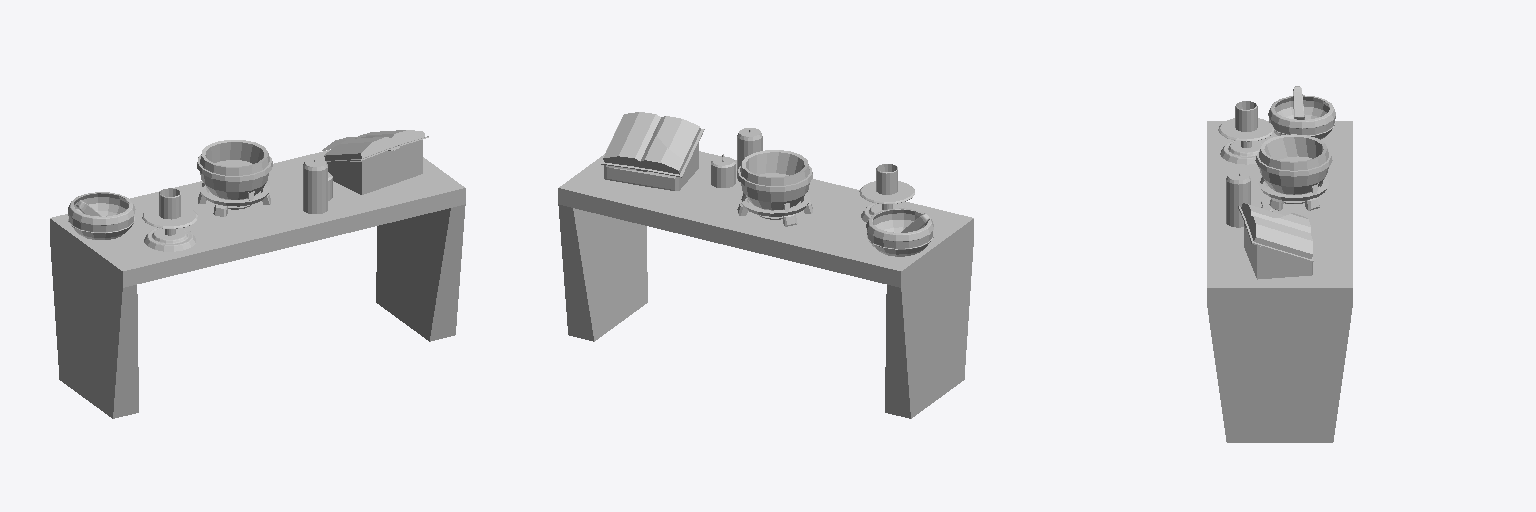
File: booktable.obj
The picture shows the model from 3 angles: view 1: azimuth 30°, elevation 25°; view 2: azimuth 150°, elevation 25°; view 3: azimuth 270°, elevation 25°; orthographic projection.
Visible parts, largest first — view 1: Cube.003, Sphere, Cube.004, objs.006, objs.007, Cube.006, Cylinder.001; view 2: Cube.003, Cube.006, Sphere, objs.006, objs.007, Cube.004, Cylinder, Cylinder.001; view 3: Cube.003, Sphere, Cube.006, objs.006, objs.007, Cube.004, Cylinder.001.
Part boxes in pixels (left/top/right/bottom): Cube.003: left=50, top=150, right=465, bottom=418; Sphere: left=197, top=140, right=272, bottom=216; Cube.004: left=327, top=140, right=422, bottom=194; objs.006: left=68, top=192, right=135, bottom=239; objs.007: left=142, top=188, right=197, bottom=251; Cube.006: left=322, top=130, right=428, bottom=162; Cylinder.001: left=303, top=158, right=327, bottom=213; Cube.003: left=558, top=151, right=973, bottom=418; Cube.006: left=600, top=112, right=704, bottom=177; Sphere: left=737, top=150, right=812, bottom=226; objs.006: left=866, top=208, right=933, bottom=256; objs.007: left=859, top=164, right=914, bottom=222; Cube.004: left=604, top=143, right=698, bottom=190; Cylinder: left=711, top=154, right=735, bottom=187; Cylinder.001: left=737, top=128, right=762, bottom=178; Cube.003: left=1207, top=121, right=1352, bottom=442; Sphere: left=1255, top=134, right=1332, bottom=210; Cube.006: left=1238, top=203, right=1313, bottom=261; objs.006: left=1268, top=86, right=1335, bottom=139; objs.007: left=1218, top=101, right=1274, bottom=164; Cube.004: left=1244, top=226, right=1312, bottom=279; Cylinder.001: left=1226, top=171, right=1250, bottom=227.
Bounding box in the file's own units: 5.1 × 2.87 × 1.86.